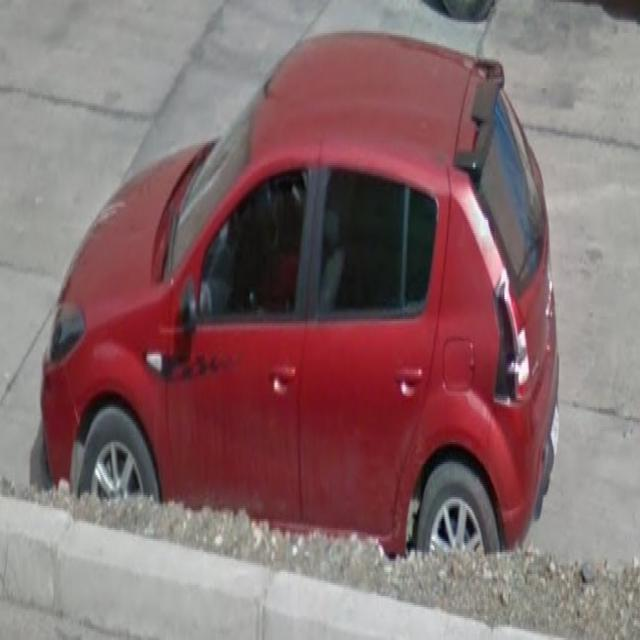car: (33, 29, 561, 561)
